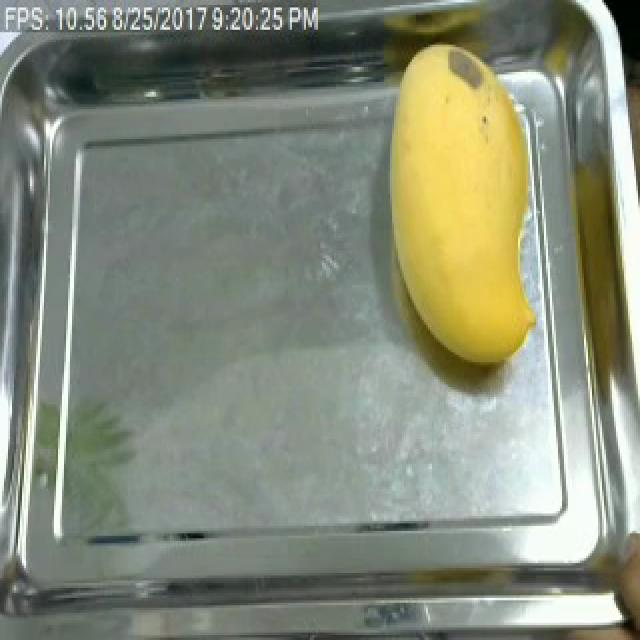fruit: (360, 20, 554, 382)
